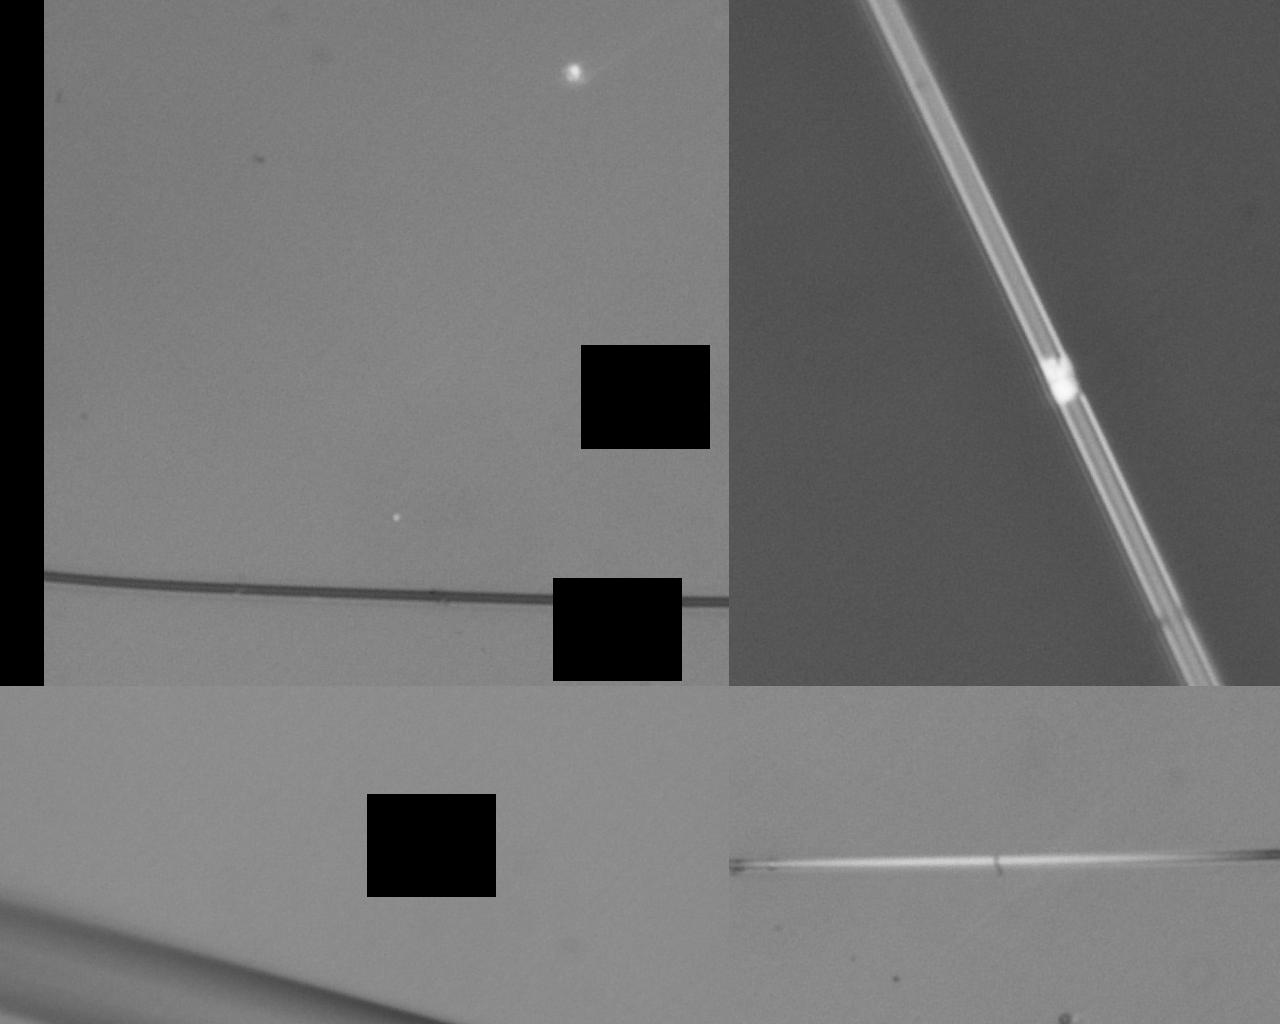fiber: (864, 0, 1221, 686), (44, 570, 729, 609), (729, 848, 1280, 867)
